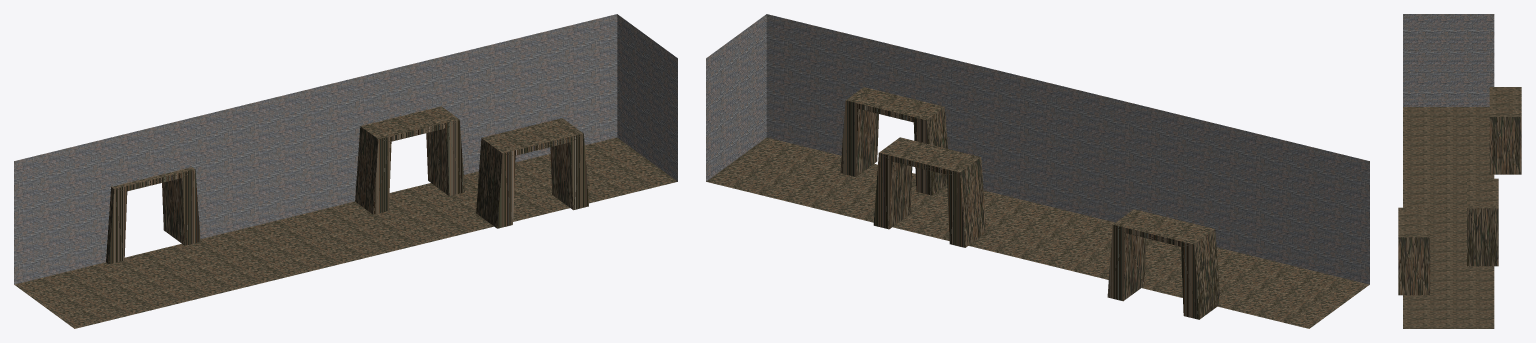
Rendered from room.gltf.
3 renders of one model, left to right at view 1: azimuth 30°, elevation 25°; view 2: azimuth 150°, elevation 25°; view 3: azimuth 270°, elevation 25°, orthographic. The views are drawn at different scales.
Visible parts, largest first — view 1: parent, r3r1_impl, r2r1_impl, r1r2_impl; view 2: parent, r1r2_impl, r2r1_impl, r3r1_impl; view 3: parent, r3r1_impl, r1r2_impl, r2r1_impl.
Part boxes in pixels (x1,y1,x2,y2): parent: (14, 14, 677, 328); r3r1_impl: (476, 118, 588, 228); r2r1_impl: (355, 106, 464, 214); r1r2_impl: (106, 167, 200, 264); parent: (706, 14, 1369, 328); r1r2_impl: (1107, 209, 1220, 319); r2r1_impl: (873, 137, 986, 247); r3r1_impl: (840, 87, 947, 195); parent: (1403, 14, 1494, 328); r3r1_impl: (1398, 207, 1430, 295); r1r2_impl: (1489, 87, 1521, 174); r2r1_impl: (1467, 178, 1498, 266).
Bounding box in the file's own units: 23 × 4.5 × 5.4.
